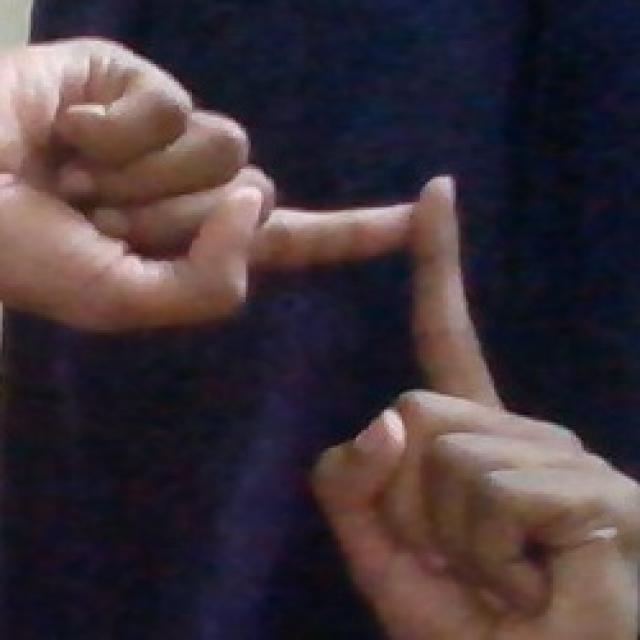Alphabet-E: (0, 41, 413, 330)
